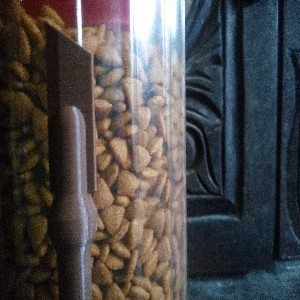cutter: (42, 18, 98, 300)
